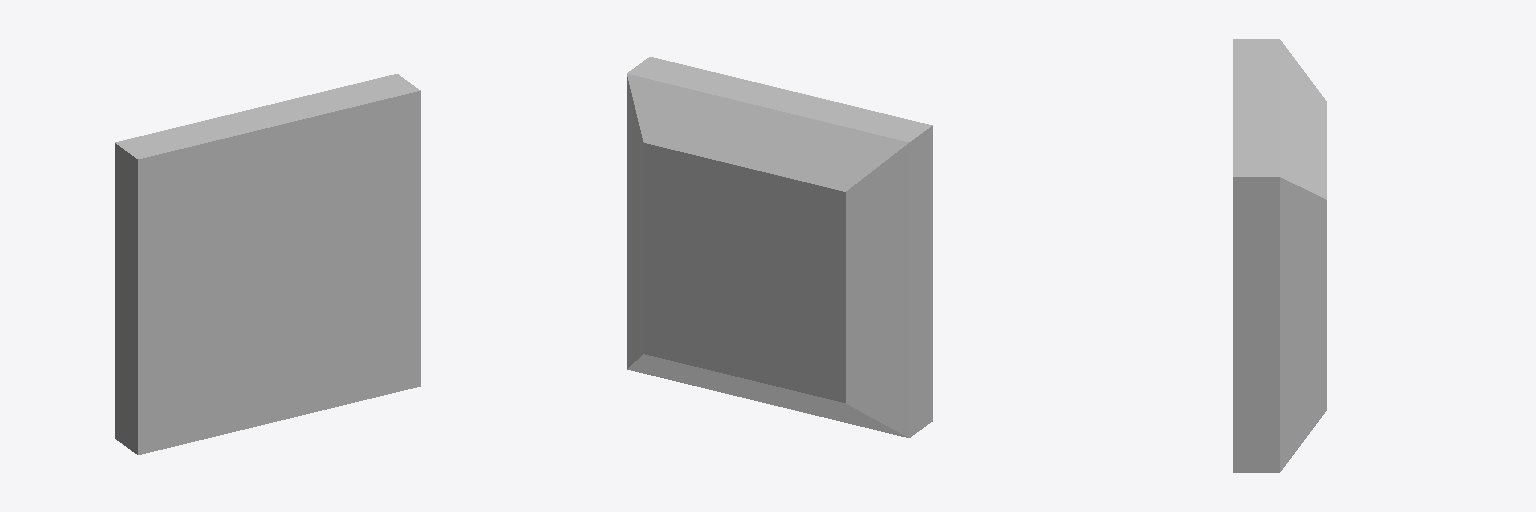
Rendered from UI_Button_Square.obj.
3 views of the same model, side by side, from view 1: azimuth 30°, elevation 25°; view 2: azimuth 150°, elevation 25°; view 3: azimuth 270°, elevation 25° (orthographic).
Parts seen in each view (by area): view 1: UI_Button_Square_Cube.001; view 2: UI_Button_Square_Cube.001; view 3: UI_Button_Square_Cube.001.
Boxes of the visible parts, box(x1,y1,x2,y2) form: UI_Button_Square_Cube.001: box(115, 74, 420, 454); UI_Button_Square_Cube.001: box(627, 57, 932, 437); UI_Button_Square_Cube.001: box(1233, 39, 1326, 472).
Bounding box in the file's own units: 1.4 × 1.4 × 0.4.